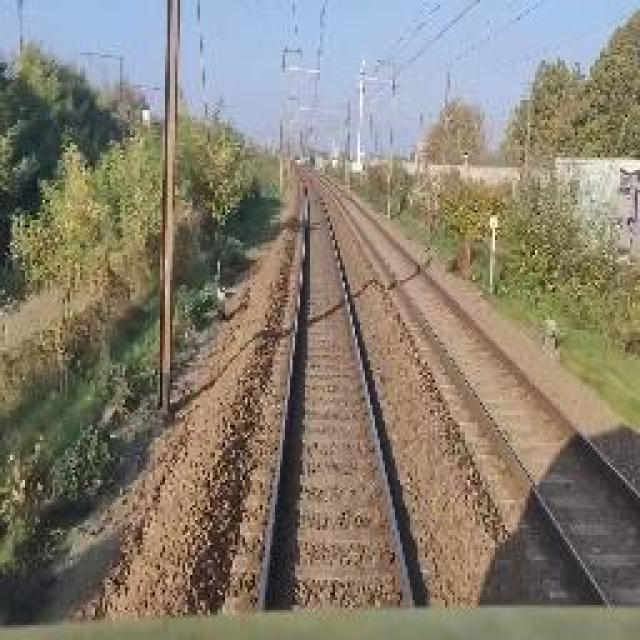rail: (228, 171, 443, 612)
